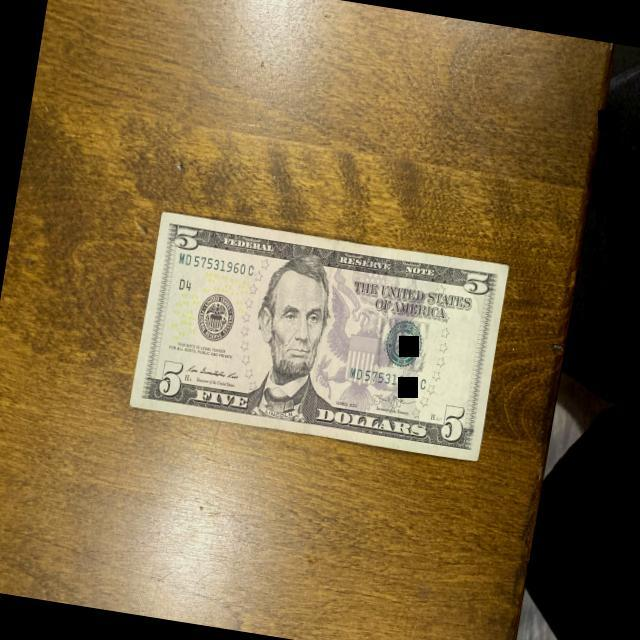five: (127, 207, 511, 463)
